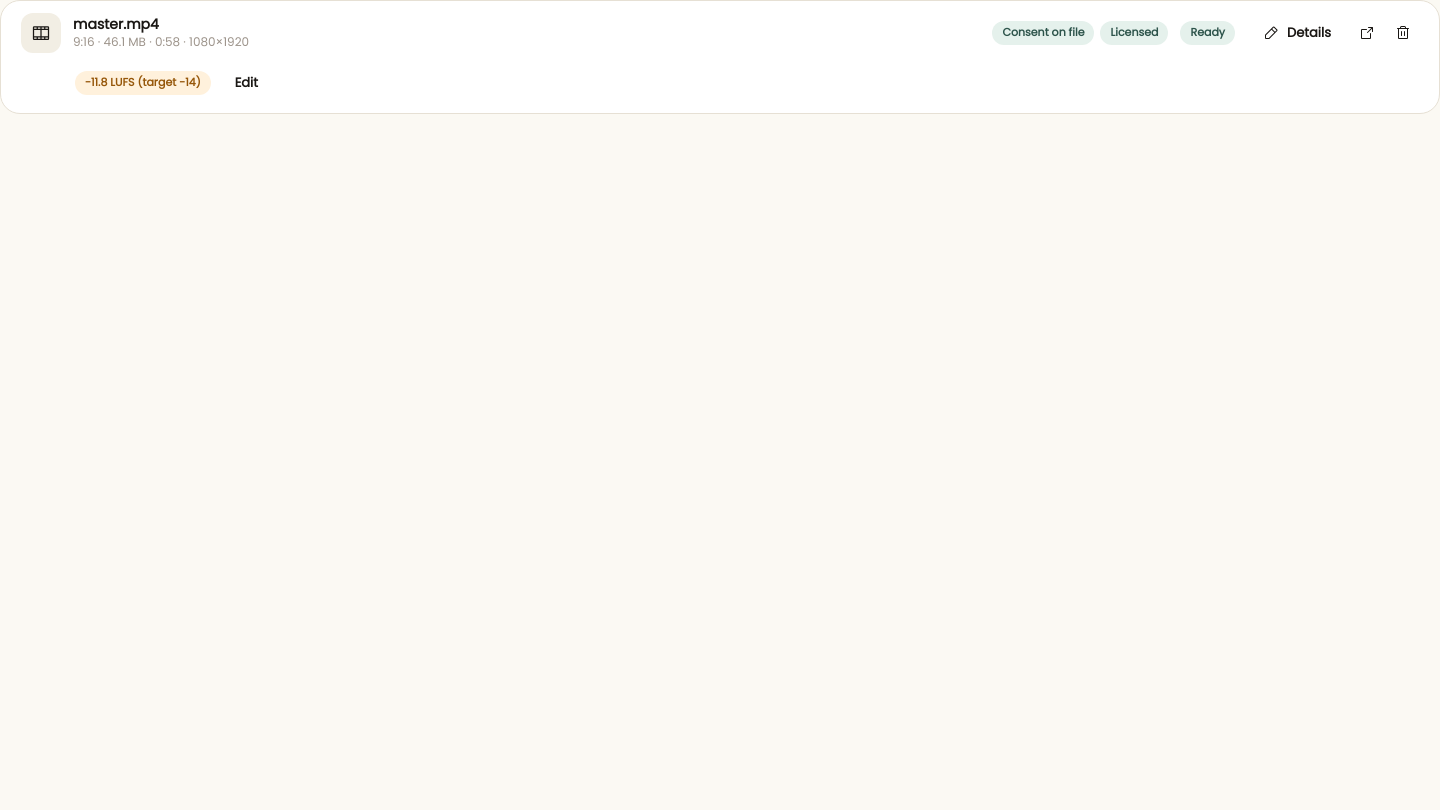
Test case: Loudness edit in the asset list › edits loudness, licence, consent and AI label in the details dialog
Click the button with aria-label "Edit details": (1297, 33) left=1247, top=15, right=1347, bottom=51
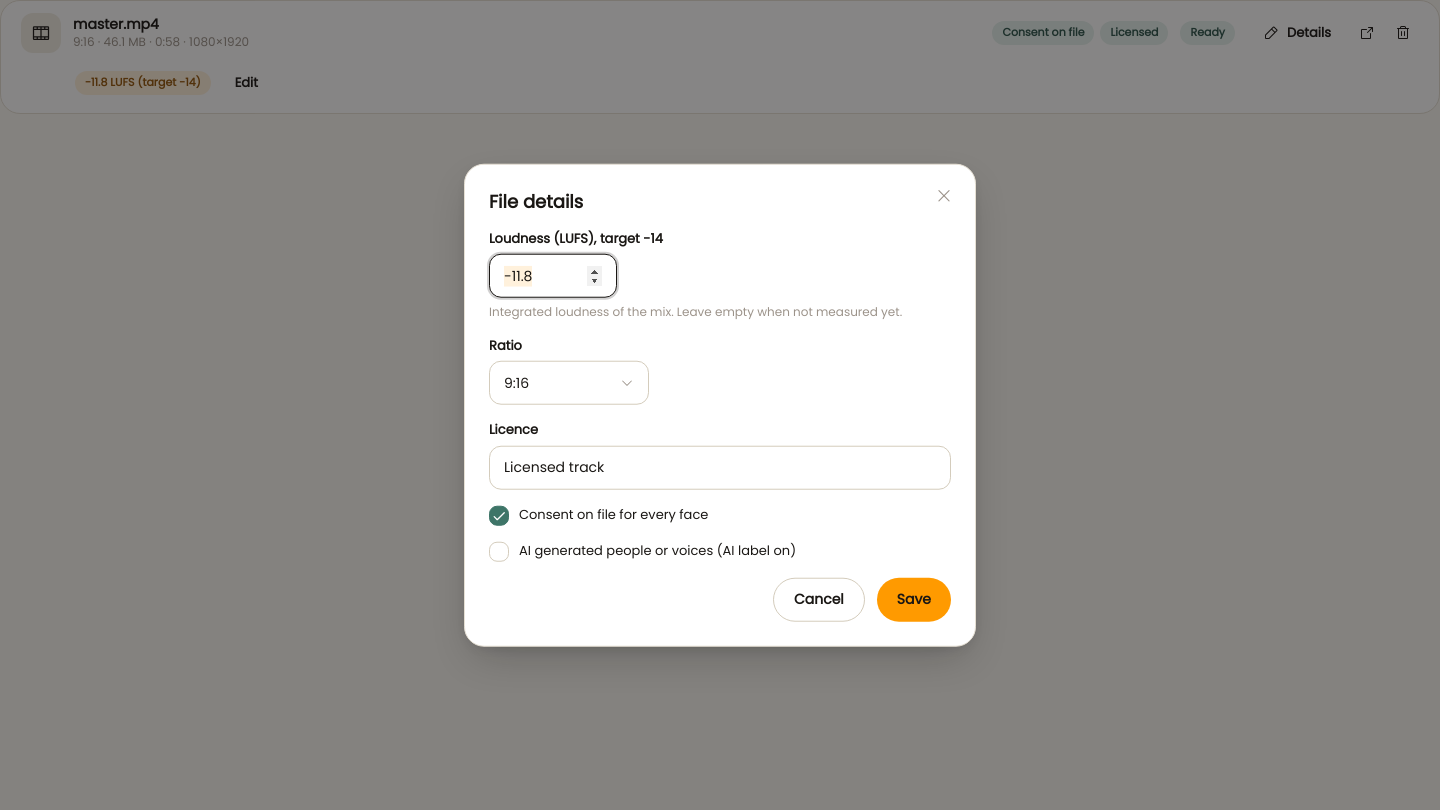
Expected: the dropdown named "Ratio" is shown, left=489, top=361, right=649, bottom=405
Expected: the number field labelled "Loudness (LUFS), target -14" holds "-11.8"
Replace the text in the number field labelled "Loudness (LUFS), target -14" with "5": (553, 276) left=489, top=254, right=617, bottom=298
Click the button "Save": (914, 599) left=877, top=577, right=951, bottom=621
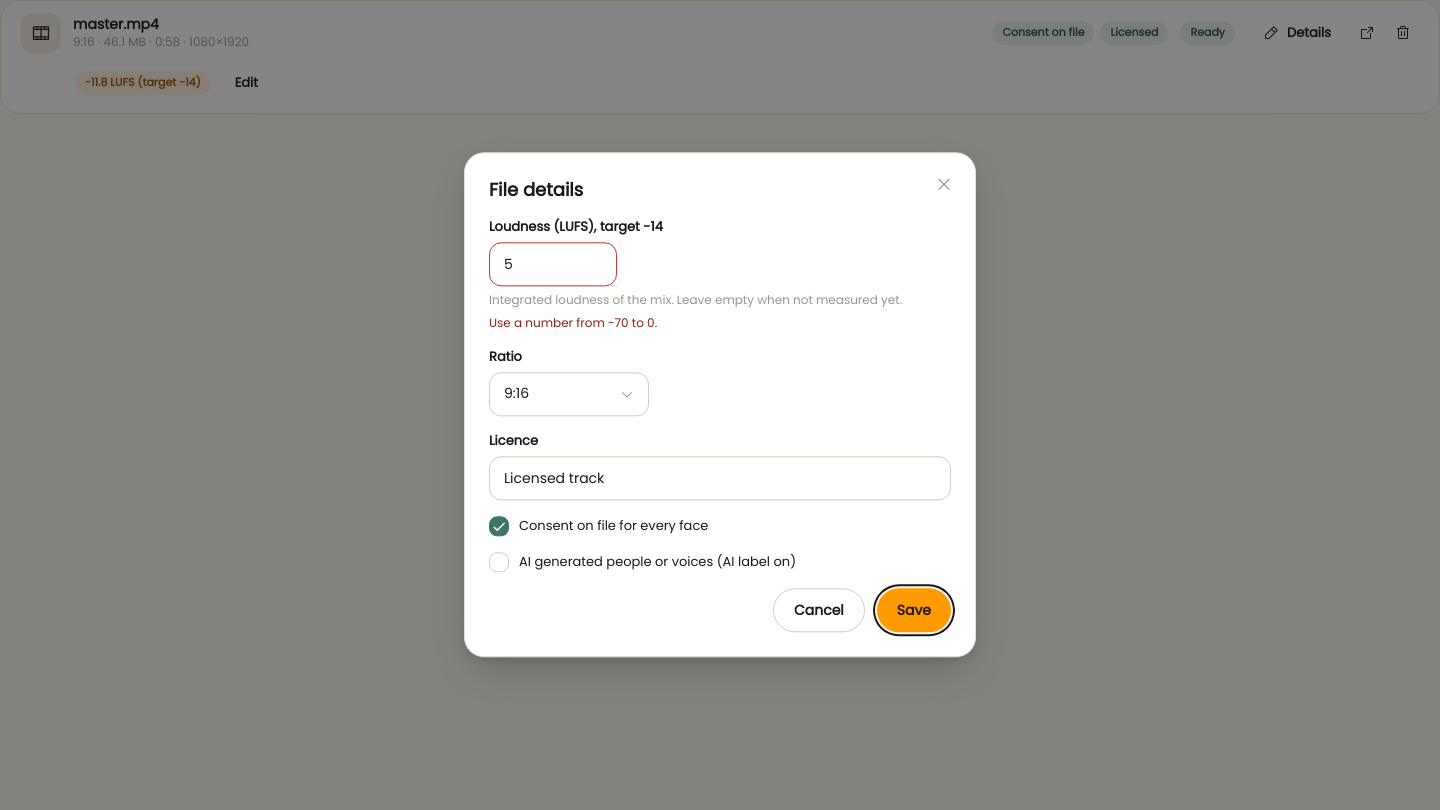
Expected: the text "Use a number from -70 to 0." is shown, left=489, top=314, right=657, bottom=332
Clear the number field labelled "Loudness (LUFS), target -14": (553, 265) left=489, top=243, right=617, bottom=287
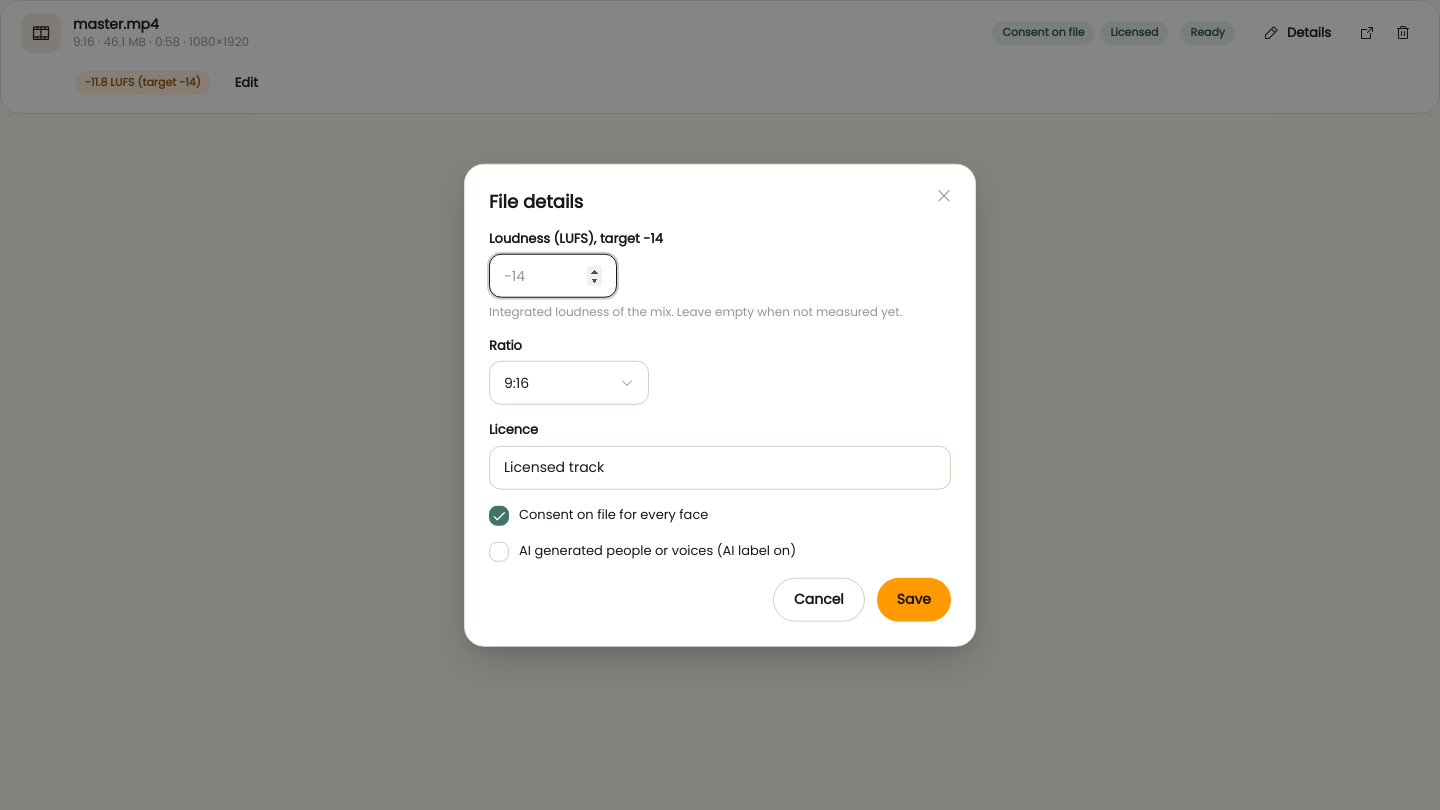
In the number field labelled "Loudness (LUFS), target -14": (553, 276) left=489, top=254, right=617, bottom=298, type "-14.2"
In the field labelled "Licence": (720, 467) left=489, top=445, right=951, bottom=489, type "Epidemic track 42"
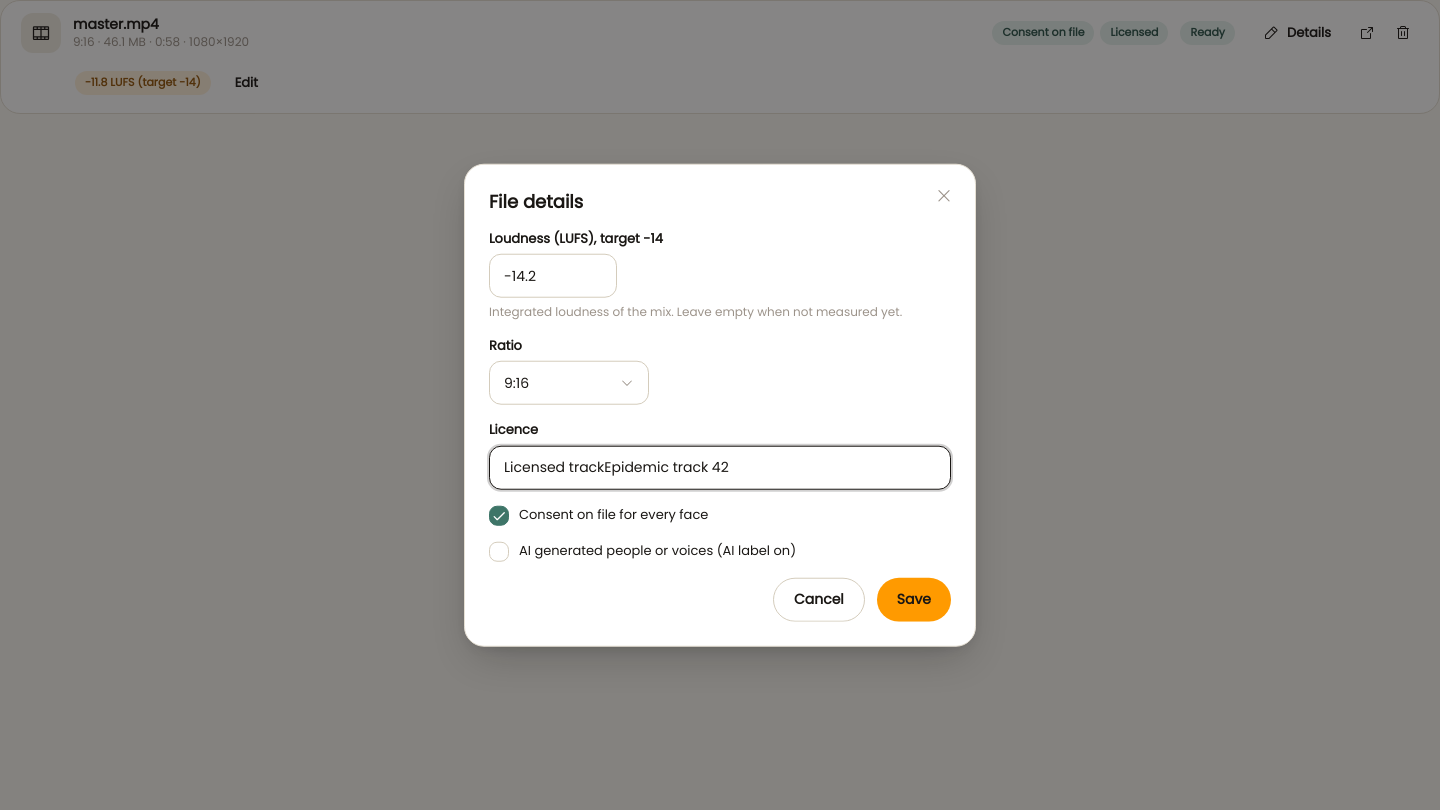
Click the 2nd checkbox named "AI generated": (499, 551) left=489, top=541, right=509, bottom=561
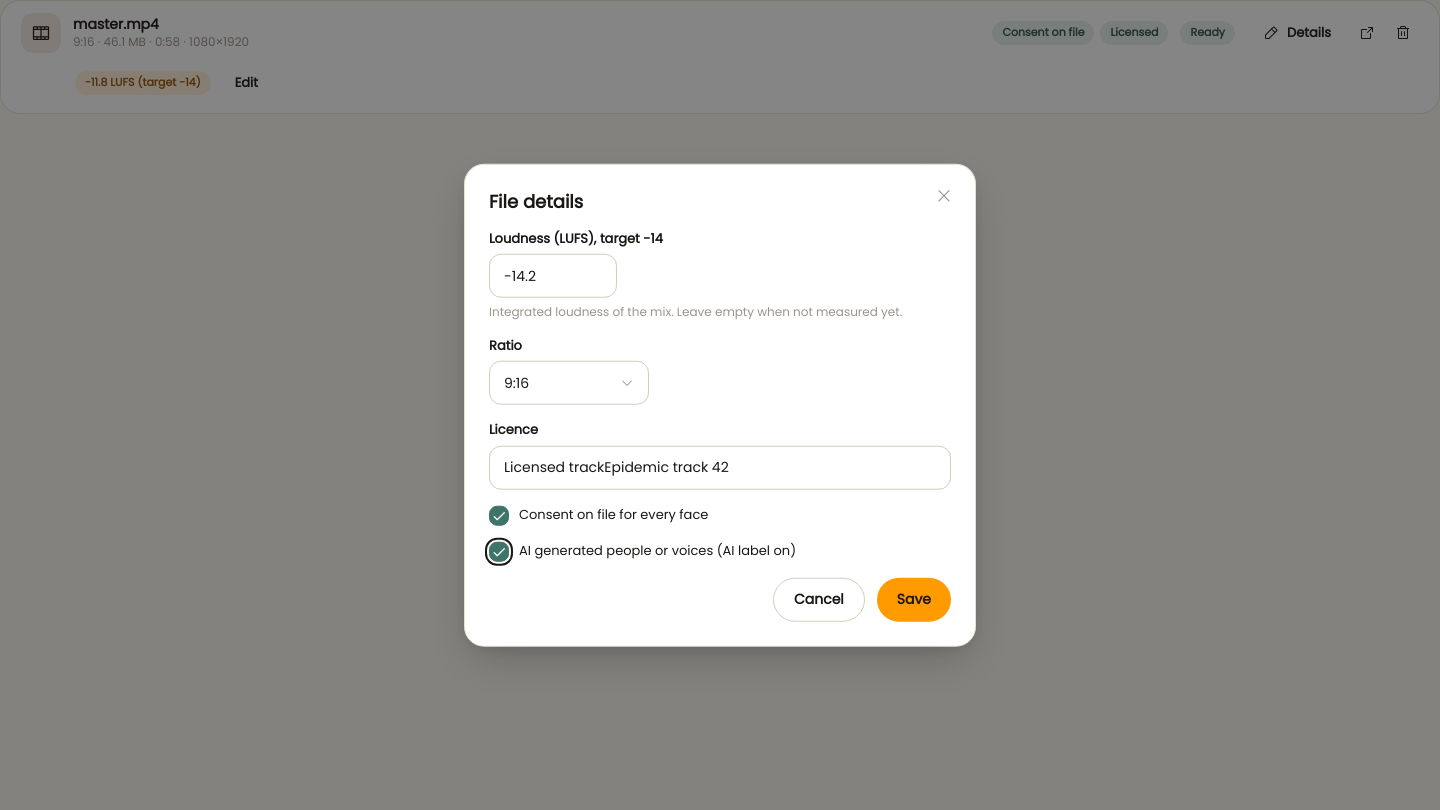
Click the button "Save": (914, 599) left=877, top=577, right=951, bottom=621
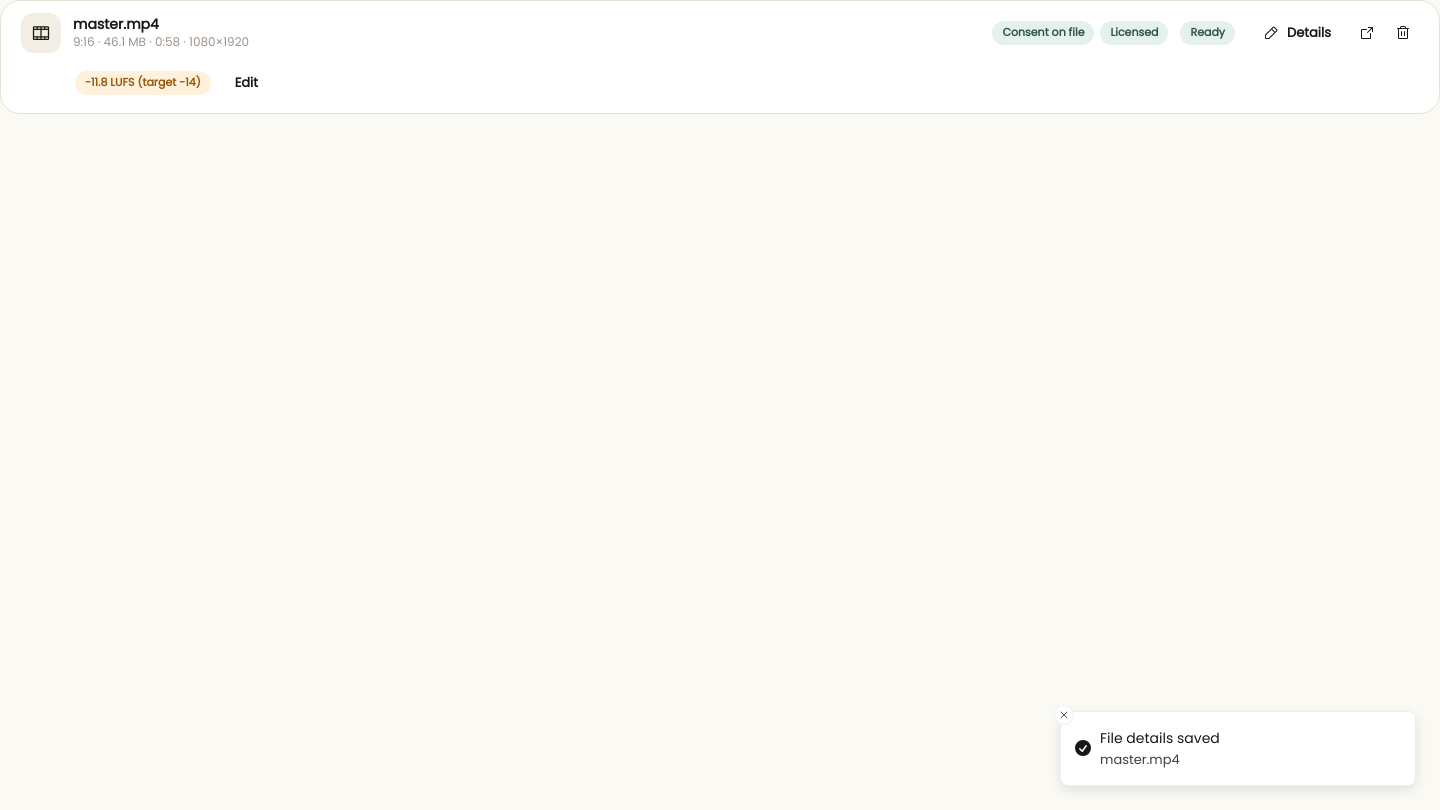
Expected: the dialog is gone
